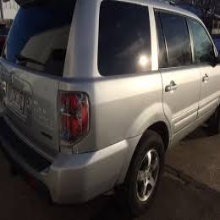no damage: (2, 1, 220, 211)
